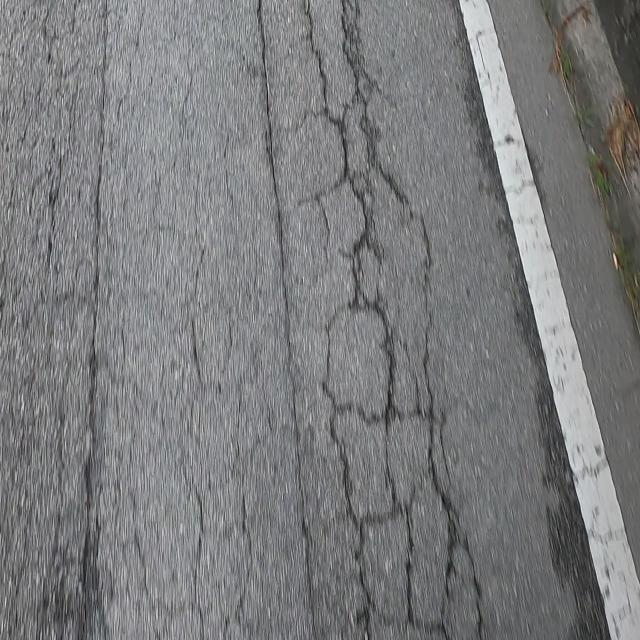Retak-Buaya: (259, 0, 482, 640), (1, 2, 105, 640)
